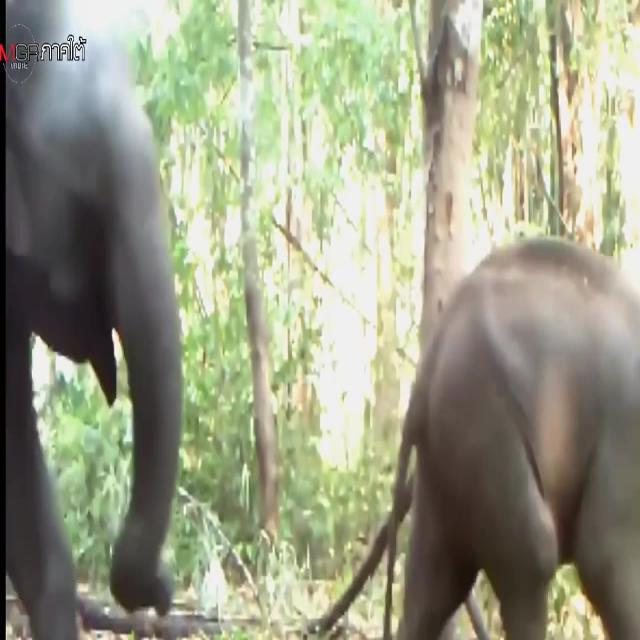Elephant: (0, 39, 188, 640), (399, 241, 640, 638)
